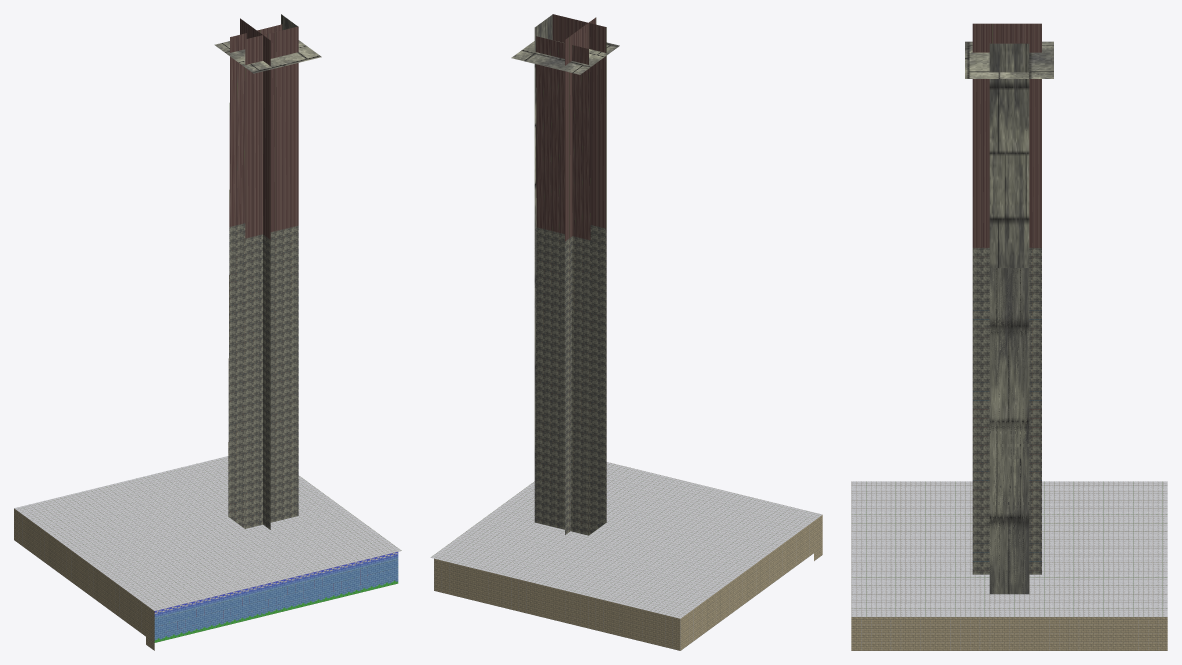
File: circleHallway.glb
The picture shows the model from 3 angles, left to right: view 1: azimuth 30°, elevation 25°; view 2: azimuth 150°, elevation 25°; view 3: azimuth 270°, elevation 25°; orthographic projection. The views are drawn at different scales.
Parts seen in each view (by area): view 1: Ceiling, TowerWalls2, OuterWalls, TowerWalls3, TowerWalls1, Plane; view 2: Ceiling, TowerWalls3, OuterWalls, TowerWalls2, TowerWalls1, InnerWalls, Plane; view 3: Ceiling, InnerWalls, TowerWalls1, OuterWalls, InnerWalls.006, Plane.
Boxes of the visible parts, <box> form: Ceiling: <box>14,456,401,610</box>; TowerWalls2: <box>245,26,298,528</box>; OuterWalls: <box>14,508,398,650</box>; TowerWalls3: <box>228,24,282,528</box>; TowerWalls1: <box>240,18,270,529</box>; Plane: <box>214,40,321,73</box>; Ceiling: <box>430,462,822,618</box>; TowerWalls3: <box>535,36,590,535</box>; OuterWalls: <box>434,515,822,650</box>; TowerWalls2: <box>552,14,606,535</box>; TowerWalls1: <box>565,17,596,534</box>; InnerWalls: <box>534,14,552,521</box>; Plane: <box>511,40,619,74</box>; Ceiling: <box>851,481,1167,617</box>; InnerWalls: <box>989,43,1029,594</box>; TowerWalls1: <box>972,23,1041,574</box>; OuterWalls: <box>851,617,1167,650</box>; InnerWalls.006: <box>989,268,1029,594</box>; Plane: <box>965,41,1053,78</box>.
Size of the model in its own units: 65 by 133 by 64.
2 materials, 2 textured.
